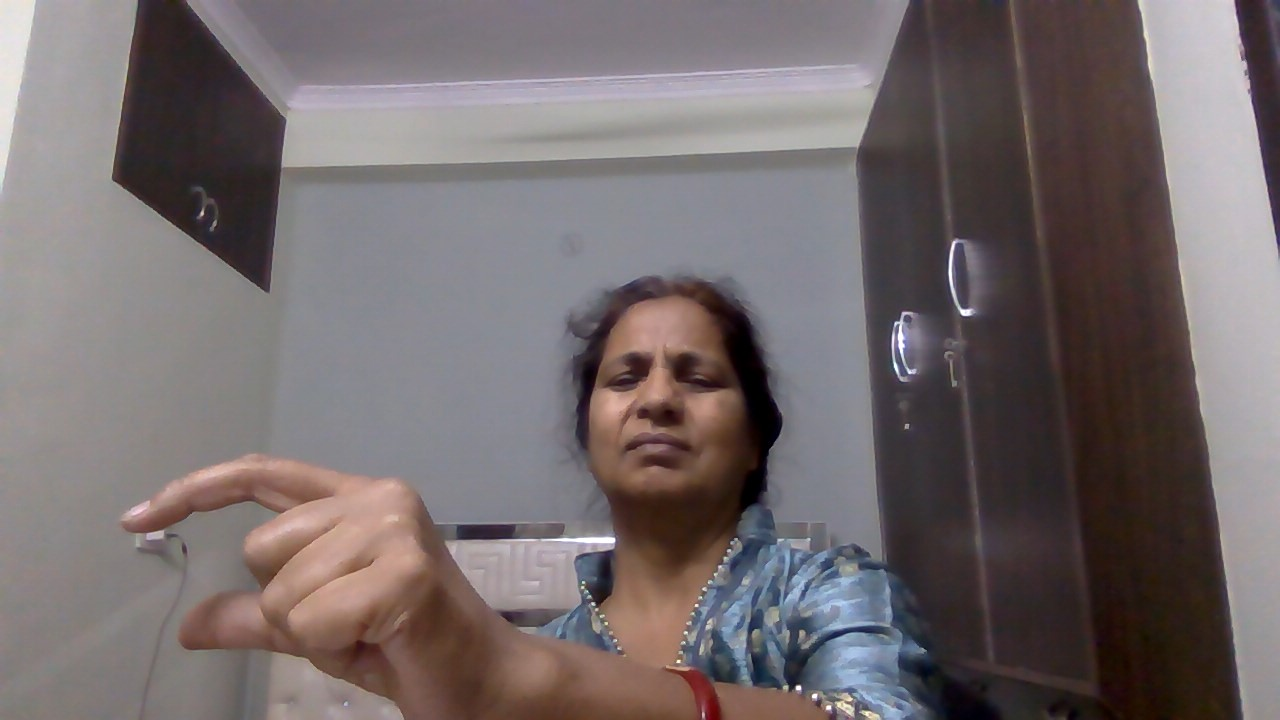Paste: (112, 444, 540, 720)
